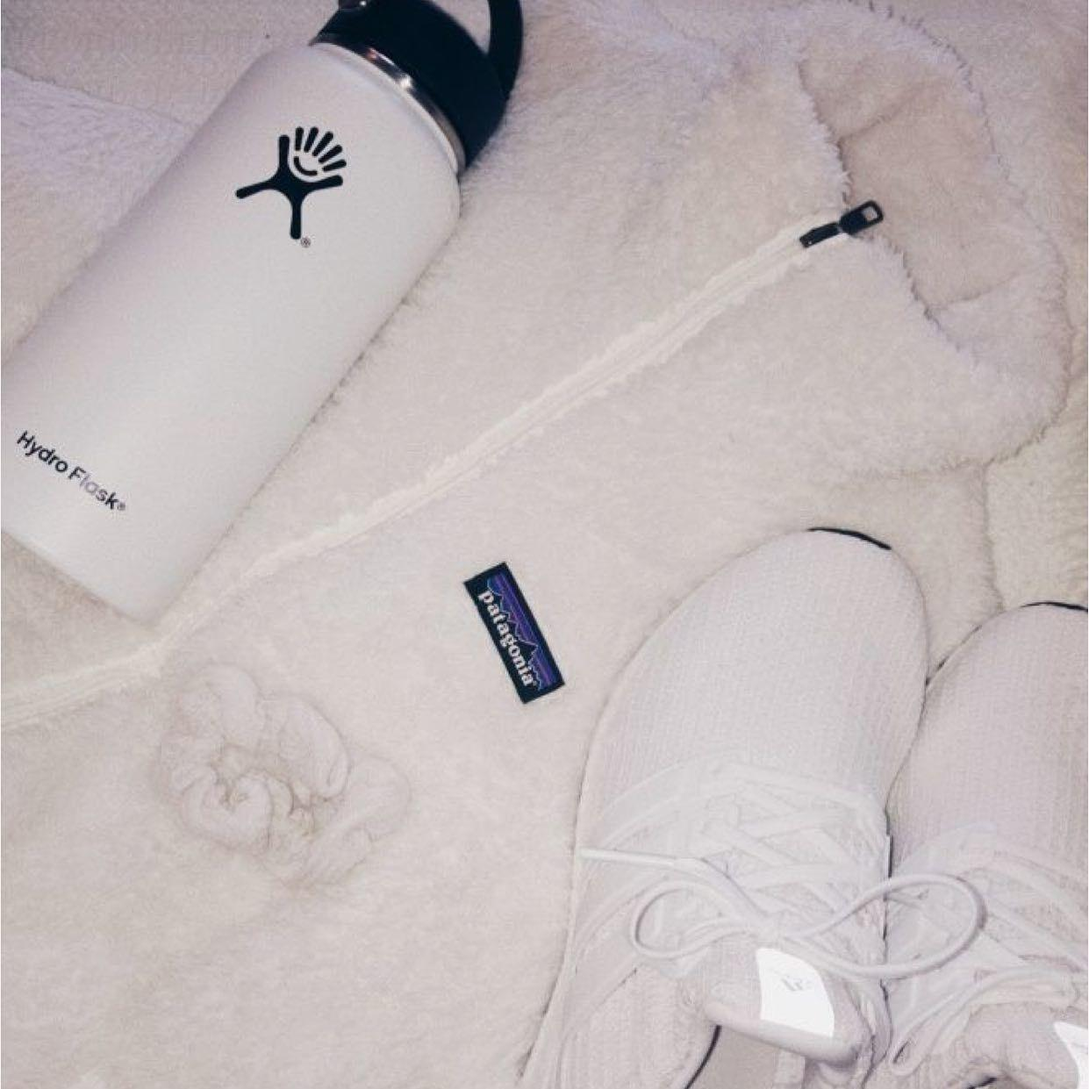gym bottle: (1, 1, 523, 620)
